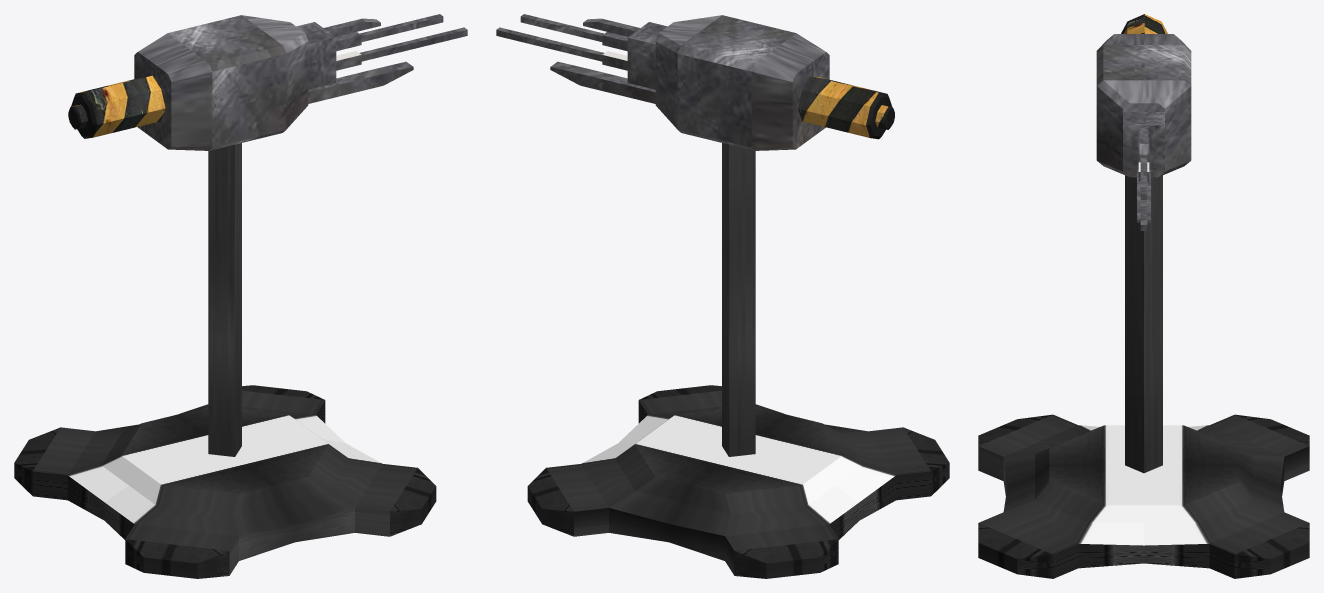
File: SM_turret_concept.fbx
3 views of the same model, side by side, from view 1: azimuth 30°, elevation 25°; view 2: azimuth 150°, elevation 25°; view 3: azimuth 270°, elevation 25° (orthographic). The views are drawn at different scales.
Visible parts, largest first — view 1: base, shooty part, pole, battery; view 2: base, shooty part, pole, battery; view 3: base, shooty part, pole, battery.
Part boxes in pixels (bbox=[...]): base: bbox=[14, 385, 436, 578]; shooty part: bbox=[134, 14, 467, 150]; pole: bbox=[208, 143, 241, 456]; battery: bbox=[68, 75, 165, 138]; base: bbox=[527, 385, 949, 578]; shooty part: bbox=[496, 14, 829, 150]; pole: bbox=[722, 143, 755, 456]; battery: bbox=[798, 76, 894, 139]; base: bbox=[978, 414, 1309, 578]; shooty part: bbox=[1096, 34, 1191, 230]; pole: bbox=[1125, 175, 1162, 473]; battery: bbox=[1121, 14, 1167, 33].
Bounding box in the file's own units: 938 × 1041 × 700.
